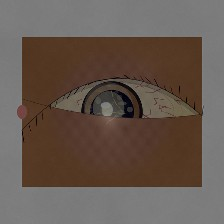corneal_ulcer: (82, 86, 135, 129)
